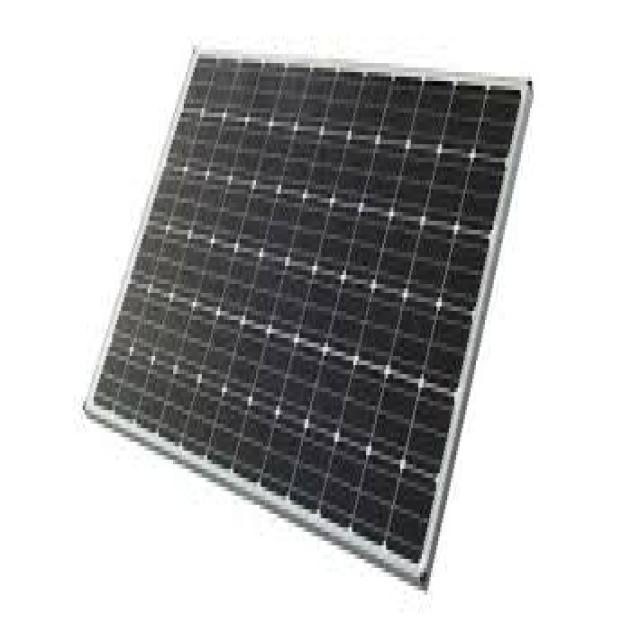clean-solar-panel: (88, 53, 532, 584)
